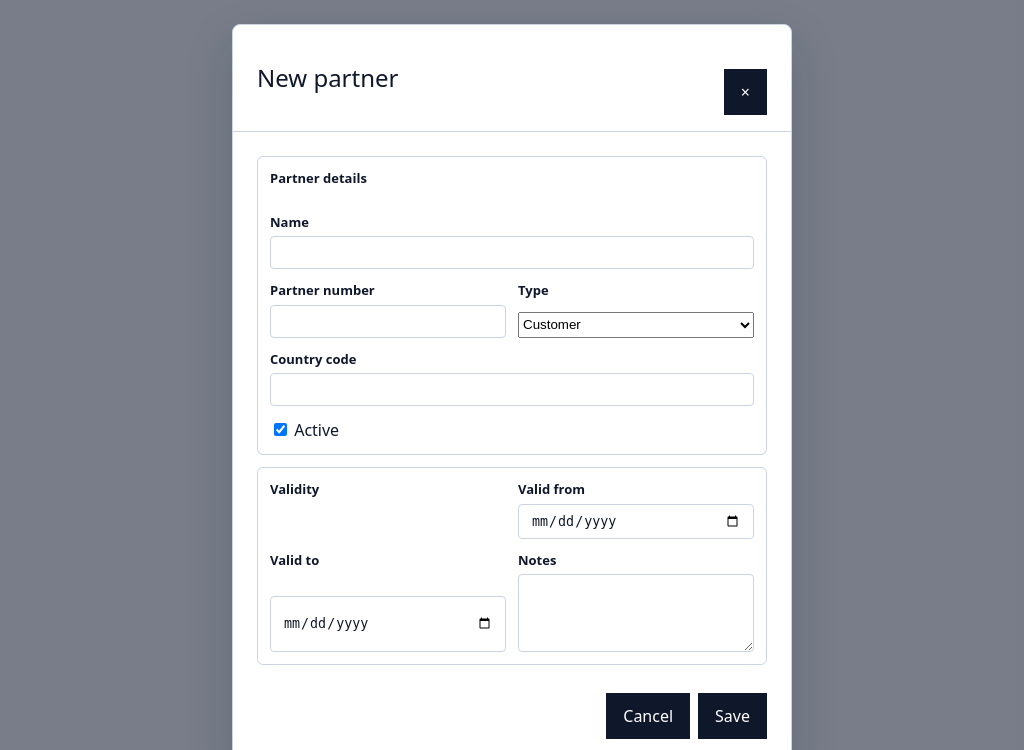
Test: BusinessPartnerFormModal › blocks an empty name and invalid date order
The width and height of the screenshot is (1024, 750).
Click the button "Save".
click(733, 716)  # box [698, 693, 767, 739]
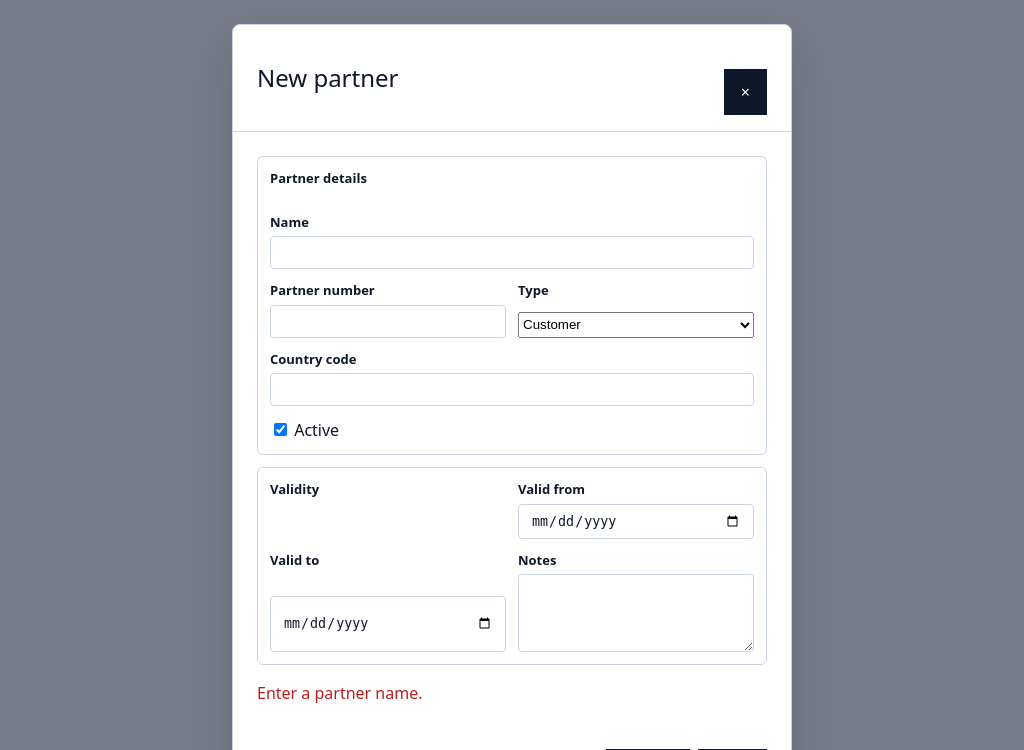
Now the message reads "Enter a partner name.", box [257, 682, 422, 704]
Type "Acme" into the field labelled "Name".
click(512, 252); type("Acme")  # box [270, 236, 754, 269]
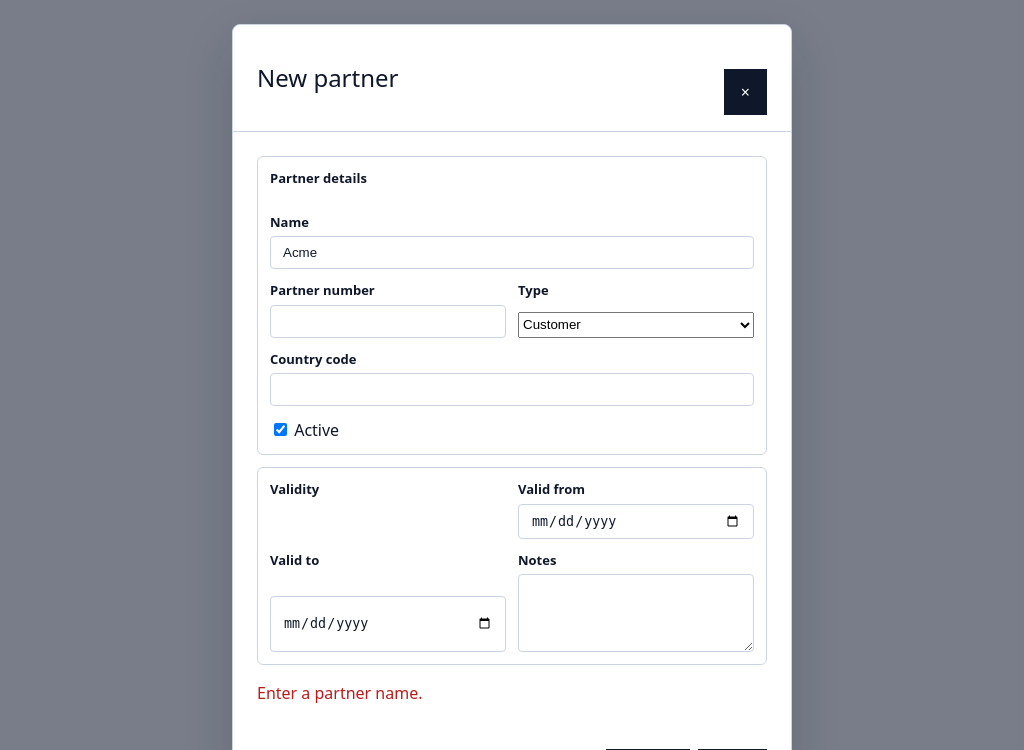
Type "2026-02-01" into the date field labelled "Valid from".
click(636, 521); type("2026-02-01")  # box [518, 504, 754, 539]
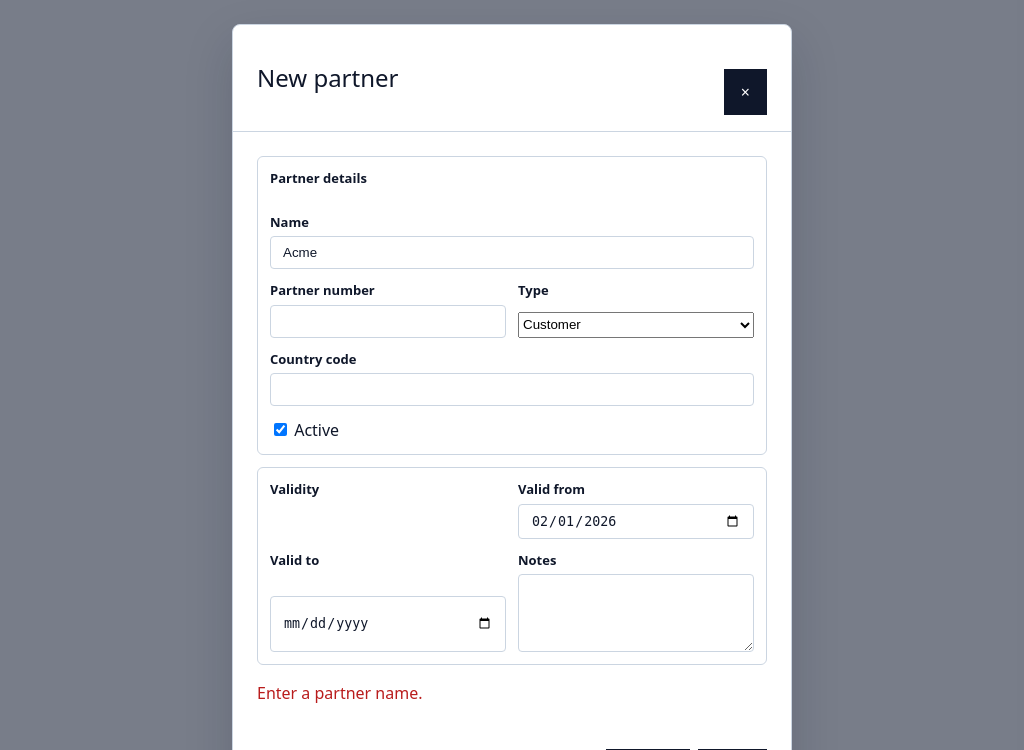
Type "2026-01-01" into the date field labelled "Valid to".
click(388, 624); type("2026-01-01")  # box [270, 596, 506, 652]
(page scrolled)
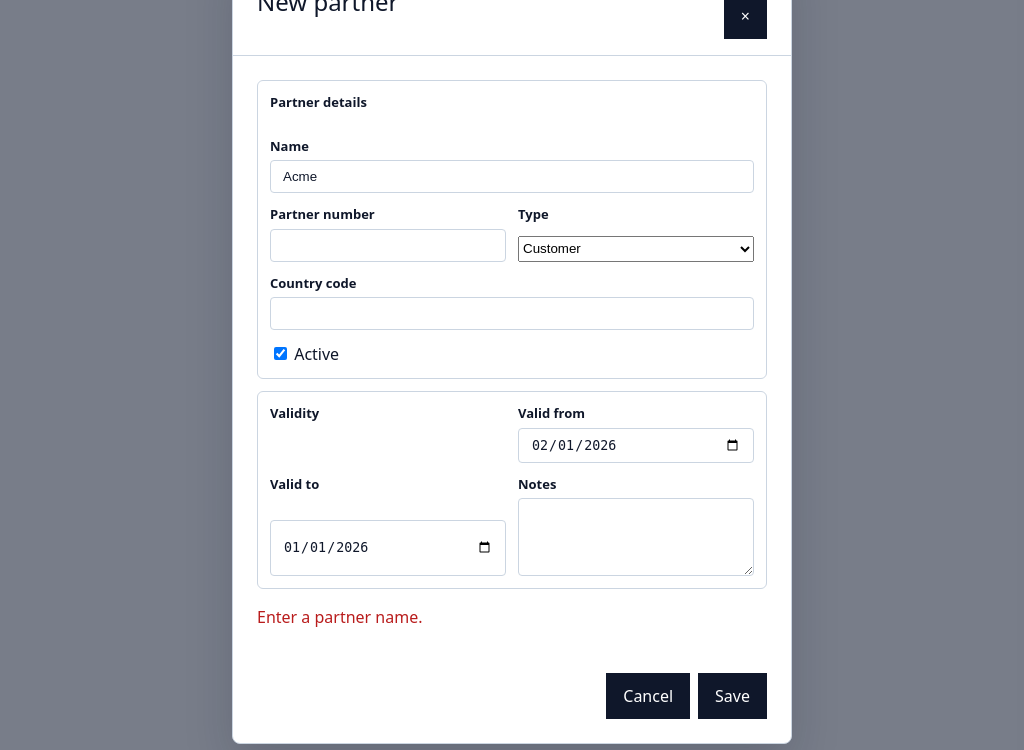
Click the button "Save".
click(733, 696)  # box [698, 673, 767, 719]
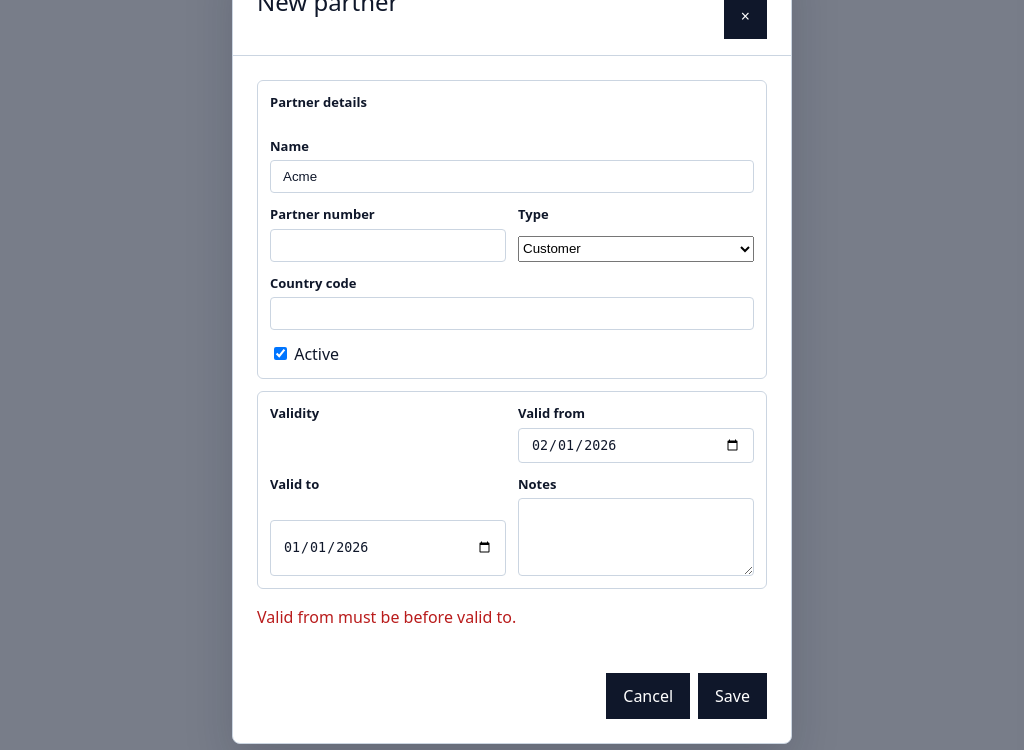
Now the message reads "Valid from must be before valid to.", box [257, 606, 516, 628]
